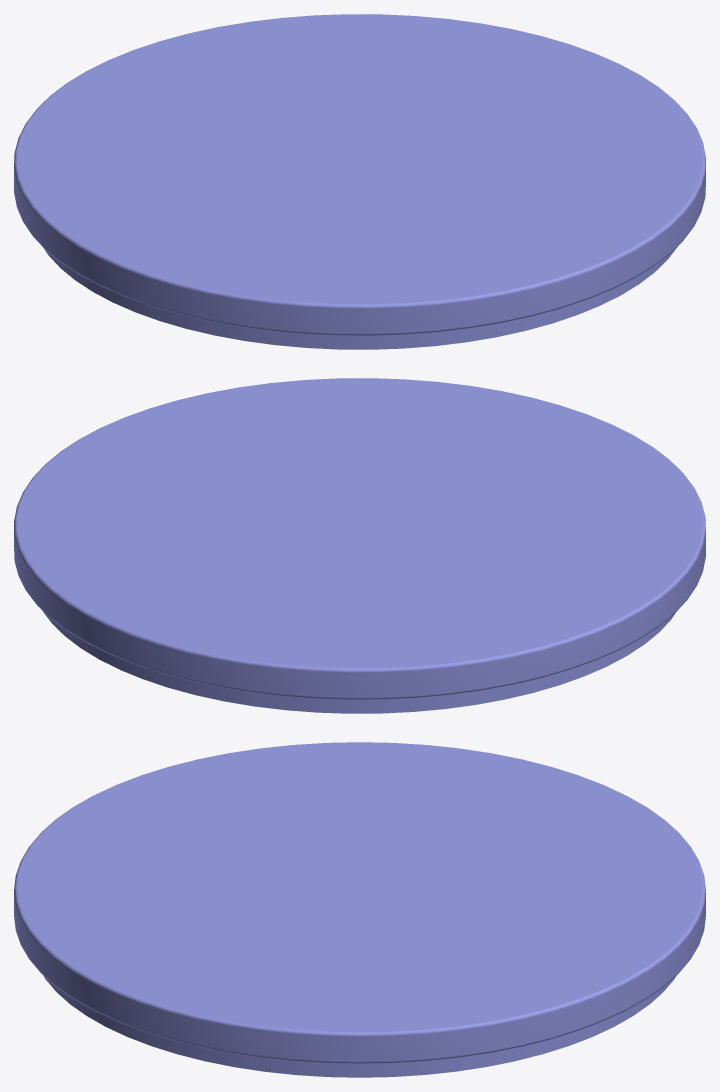
The model's file is Display_cylinder.fbx.
3 renders of one model, top to bottom at view 1: azimuth 30°, elevation 25°; view 2: azimuth 150°, elevation 25°; view 3: azimuth 270°, elevation 25°, orthographic.
Visible parts, largest first — view 1: Display_cylinder; view 2: Display_cylinder; view 3: Display_cylinder.
Boxes of the visible parts, x1=… form: Display_cylinder: x1=14, y1=14, x2=705, y2=349; Display_cylinder: x1=14, y1=378, x2=705, y2=713; Display_cylinder: x1=14, y1=742, x2=705, y2=1077.
Bounding box in the file's own units: 2 × 0.1644 × 2.
